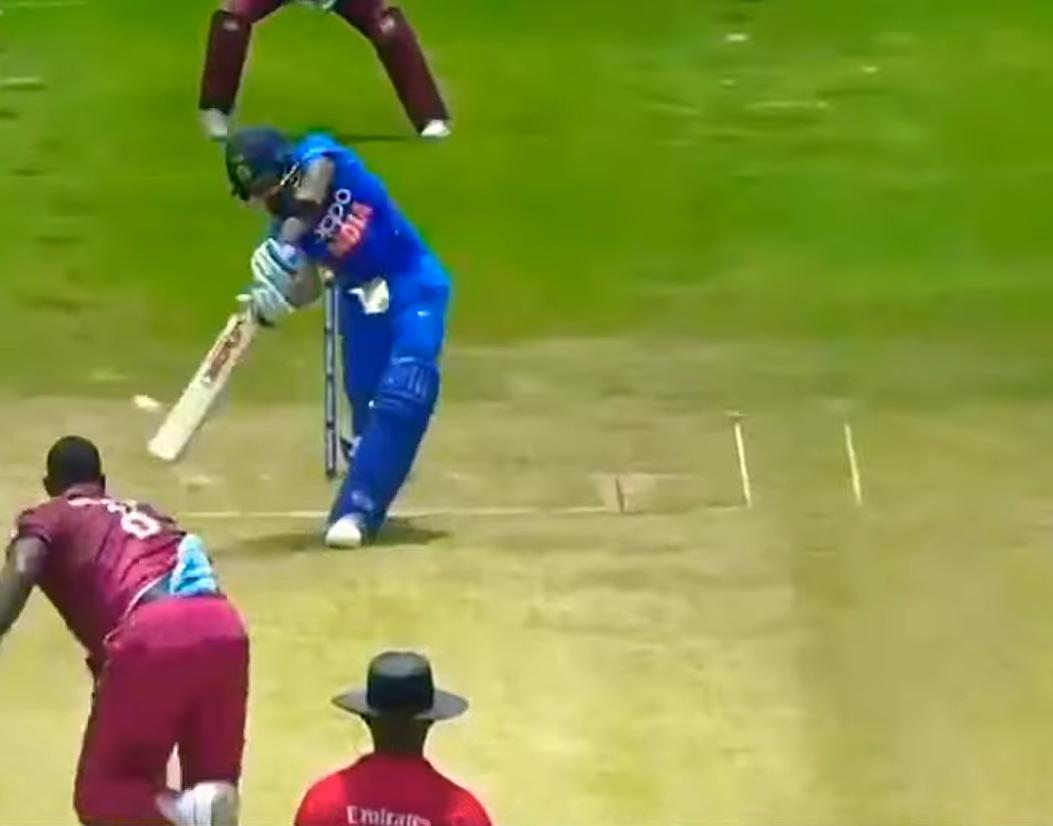Cricket-Ball: (124, 389, 163, 426)
